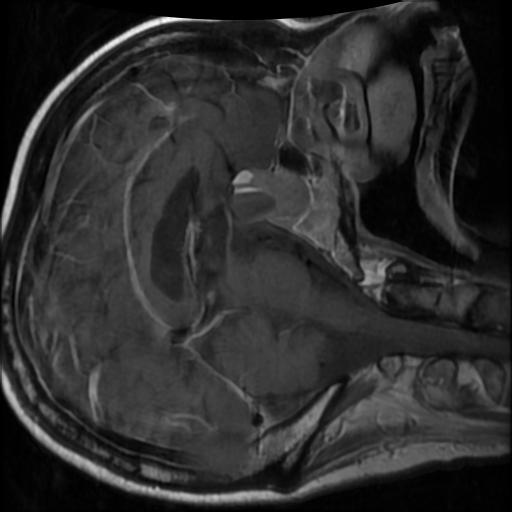pituitary tumour: (228, 169, 311, 226)
